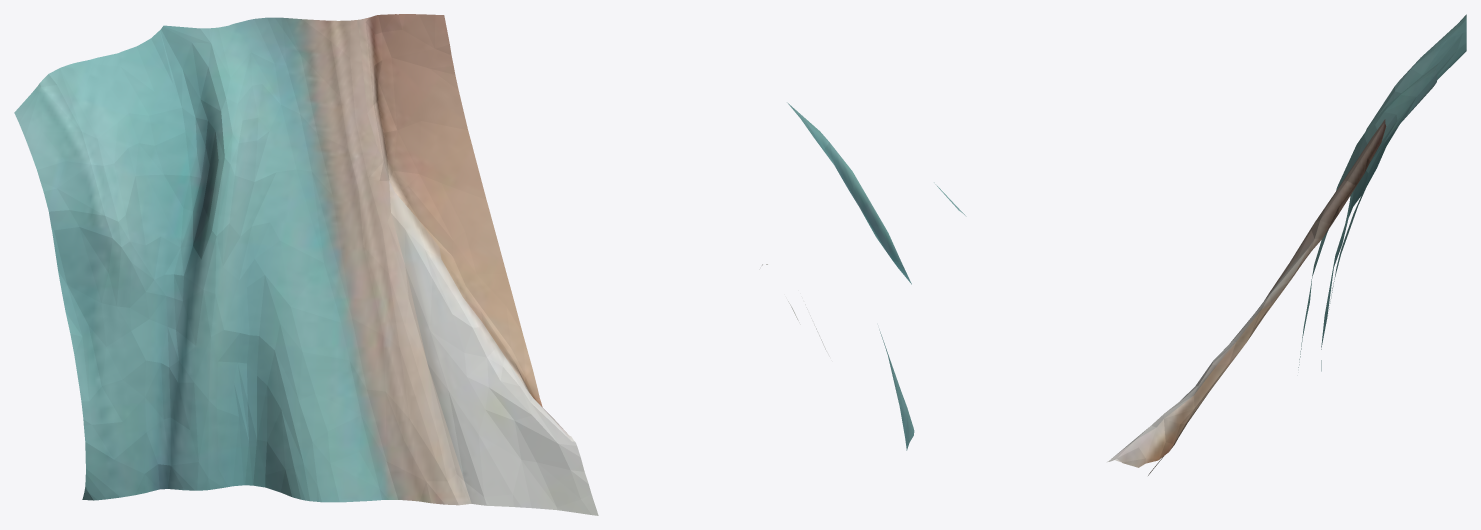
3 views of the same model, side by side, from view 1: azimuth 30°, elevation 25°; view 2: azimuth 150°, elevation 25°; view 3: azimuth 270°, elevation 25° (orthographic). The views are drawn at different scales.
Bounding box in the file's own units: 85.74 × 85.74 × 85.63.
1 material, 1 textured.
